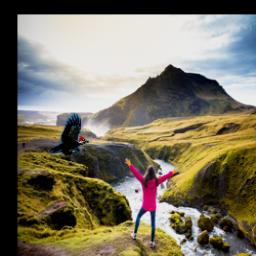Crow: (254, 117, 256, 145)
Woodpecker: (48, 113, 89, 155)
